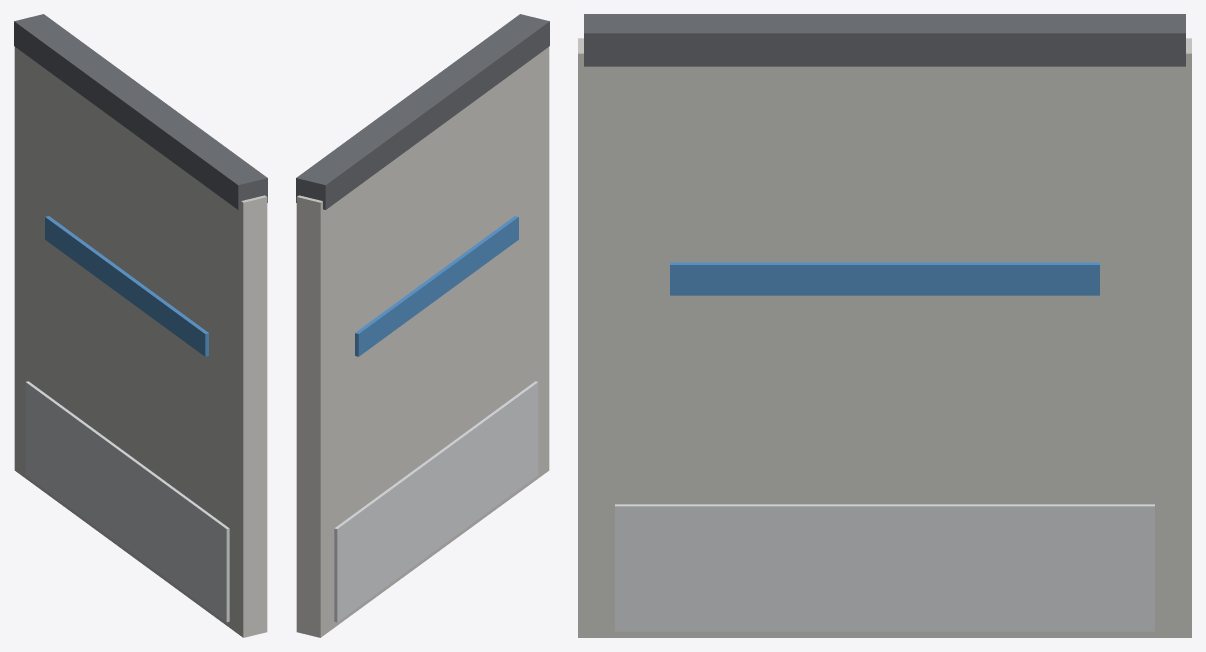
The model's file is boarding-kennels-and-cattery-boarding-kennels-and-catt-efc09f39__35533.glb.
3 views of the same model, side by side, from view 1: azimuth 30°, elevation 25°; view 2: azimuth 150°, elevation 25°; view 3: azimuth 270°, elevation 25° (orthographic). The views are drawn at different scales.
Visible parts, largest first — view 1: boarding-kennels-and-cattery-dividing-wall-panel; view 2: boarding-kennels-and-cattery-dividing-wall-panel; view 3: boarding-kennels-and-cattery-dividing-wall-panel.
Boxes of the visible parts, x1=… form: boarding-kennels-and-cattery-dividing-wall-panel: x1=14, y1=14, x2=267, y2=637; boarding-kennels-and-cattery-dividing-wall-panel: x1=296, y1=14, x2=549, y2=637; boarding-kennels-and-cattery-dividing-wall-panel: x1=578, y1=14, x2=1191, y2=637.
Bounding box in the file's own units: 0.16 × 2.18 × 2.
